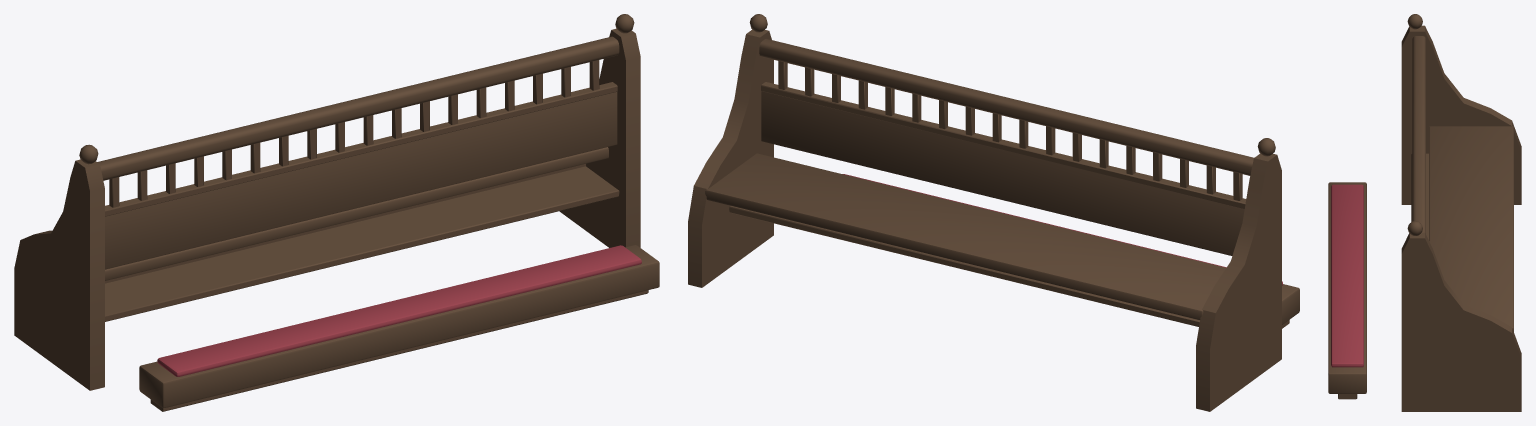
The model's file is chi_panca.fbx.
3 renders of one model, left to right at view 1: azimuth 30°, elevation 25°; view 2: azimuth 150°, elevation 25°; view 3: azimuth 270°, elevation 25°, orthographic. The views are drawn at different scales.
Parts seen in each view (by area): view 1: chi_panca_legno, chi_panca_tessuto; view 2: chi_panca_legno; view 3: chi_panca_legno, chi_panca_tessuto.
Part boxes in pixels (x1,y1,x2,y2): chi_panca_legno: (14,14,659,411); chi_panca_tessuto: (157,245,641,376); chi_panca_legno: (688,14,1299,411); chi_panca_legno: (1328,14,1521,411); chi_panca_tessuto: (1331,184,1363,367).
Bounding box in the file's own units: 2.61 × 1.07 × 1.
